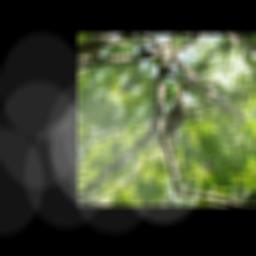Cuckoo: (137, 81, 214, 148)
